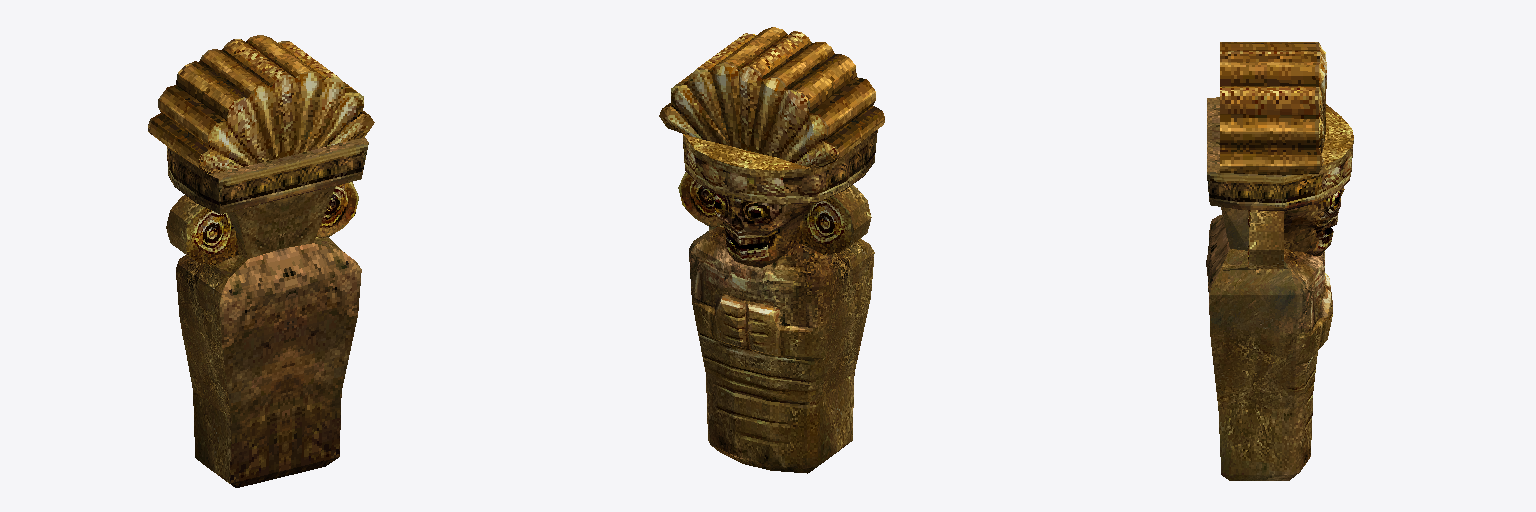
3 renders of one model, left to right at view 1: azimuth 30°, elevation 25°; view 2: azimuth 150°, elevation 25°; view 3: azimuth 270°, elevation 25°, orthographic.
Parts seen in each view (by area): view 1: rdmobj01.000; view 2: rdmobj01.000; view 3: rdmobj01.000.
Part boxes in pixels (bbox=[...]): rdmobj01.000: bbox=[148, 35, 374, 487]; rdmobj01.000: bbox=[659, 27, 884, 473]; rdmobj01.000: bbox=[1206, 42, 1353, 480].
Size of the model in its own units: 26.54 by 57.95 by 19.11.
Materials: 1 (1 with a texture image).